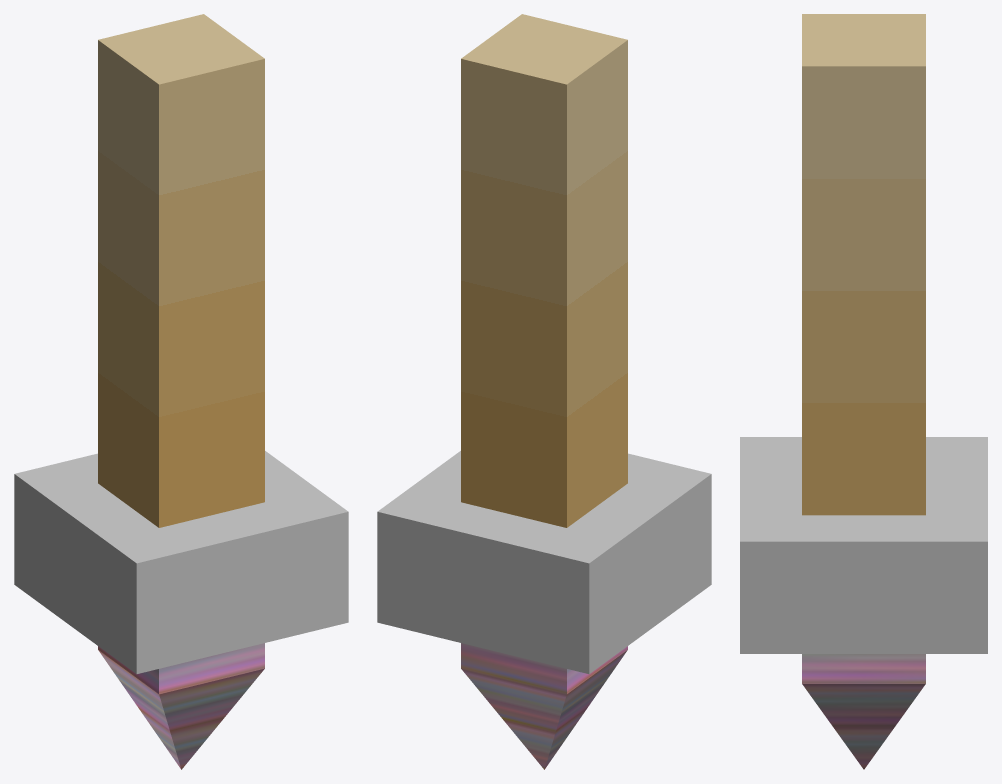
Rendered from altar_of_arcana_candle_long.obj.
The picture shows the model from 3 angles, left to right: view 1: azimuth 30°, elevation 25°; view 2: azimuth 150°, elevation 25°; view 3: azimuth 270°, elevation 25°; orthographic projection.
Visible parts, largest first — view 1: ENSORCELLATION_CANDLE_LONG_Cube.017; view 2: ENSORCELLATION_CANDLE_LONG_Cube.017; view 3: ENSORCELLATION_CANDLE_LONG_Cube.017.
Part boxes in pixels (x1,y1,x2,y2): ENSORCELLATION_CANDLE_LONG_Cube.017: [14, 14, 348, 769]; ENSORCELLATION_CANDLE_LONG_Cube.017: [377, 14, 711, 769]; ENSORCELLATION_CANDLE_LONG_Cube.017: [740, 14, 987, 769].
Size of the model in its own units: 0.125 by 0.4062 by 0.125.
